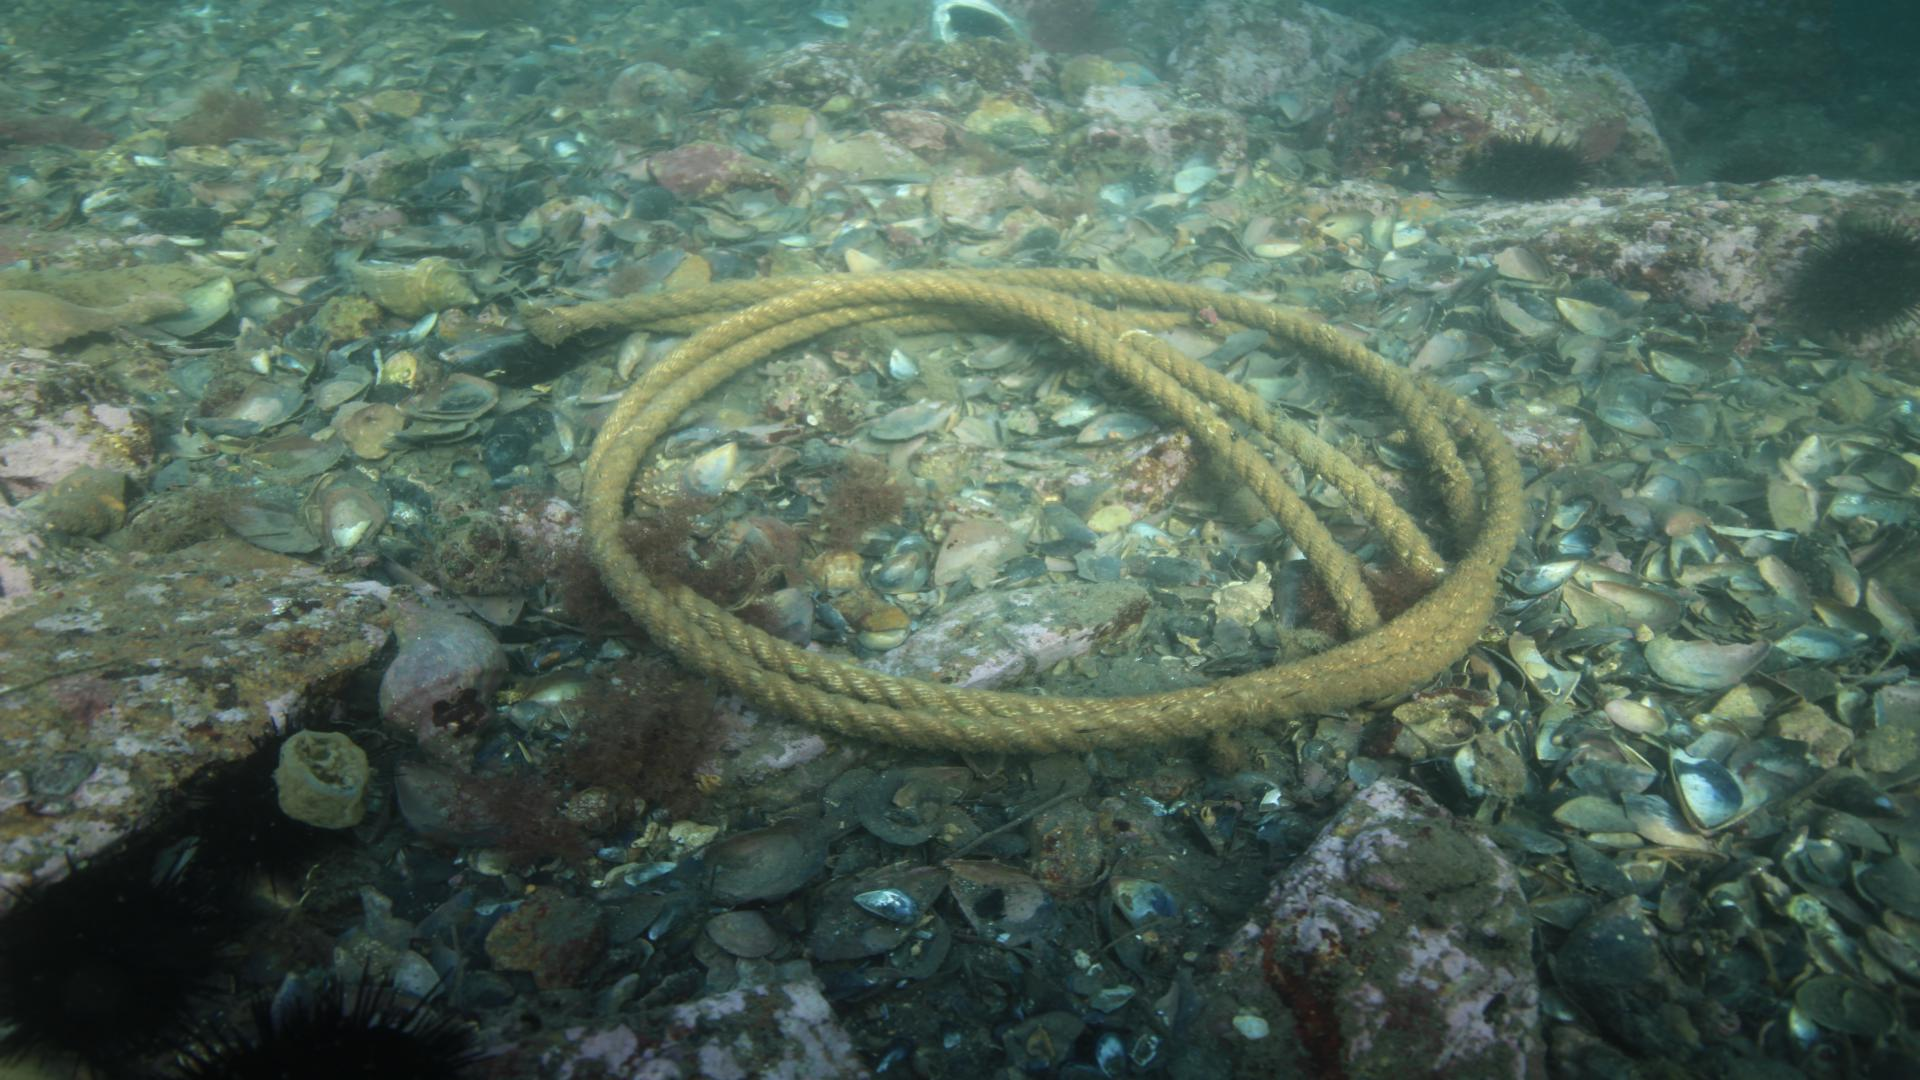bundle of ropes: (529, 262, 1527, 758)
